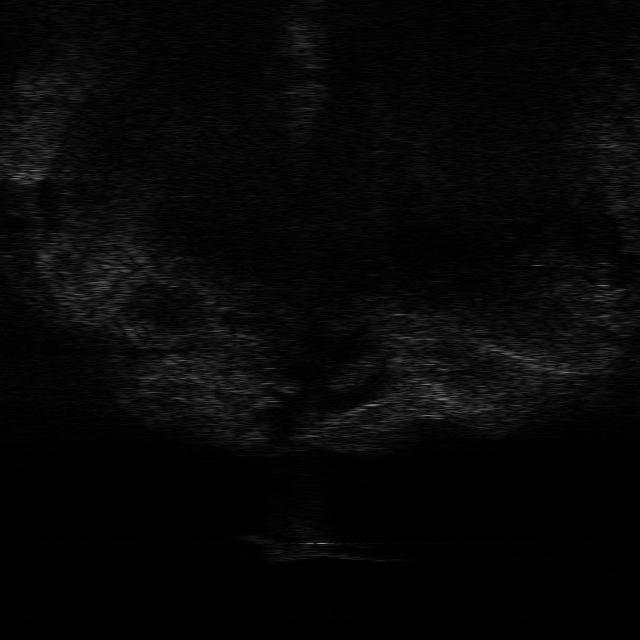plane: (242, 520, 402, 564)
